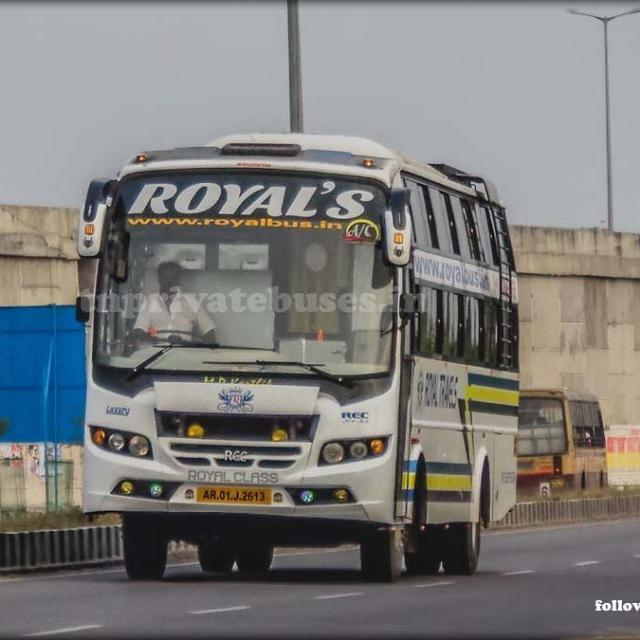Bus: (75, 131, 522, 586), (520, 386, 610, 498)
